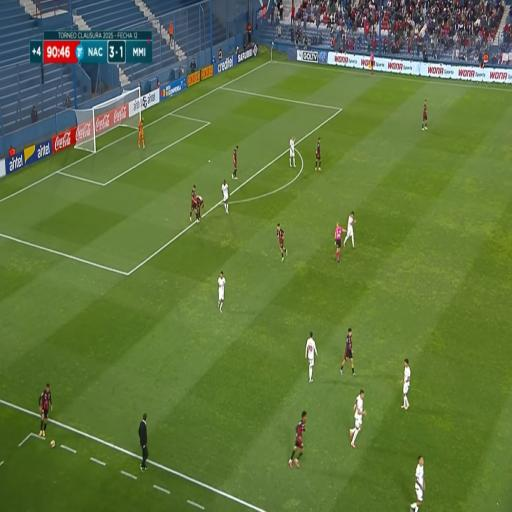Ball: (50, 438, 56, 448)
Goalkeeper: (138, 116, 146, 149)
Player: (290, 413, 306, 466), (351, 390, 366, 442), (39, 388, 51, 436), (415, 454, 424, 512), (306, 332, 315, 384), (346, 326, 354, 370), (218, 270, 226, 310), (404, 357, 410, 408), (277, 222, 285, 260), (347, 209, 355, 247), (190, 184, 197, 221), (232, 146, 239, 182), (288, 136, 296, 167), (223, 180, 230, 214), (316, 138, 322, 174), (196, 196, 202, 222), (423, 100, 427, 129)
Referee: (334, 224, 342, 264), (370, 54, 374, 75)
